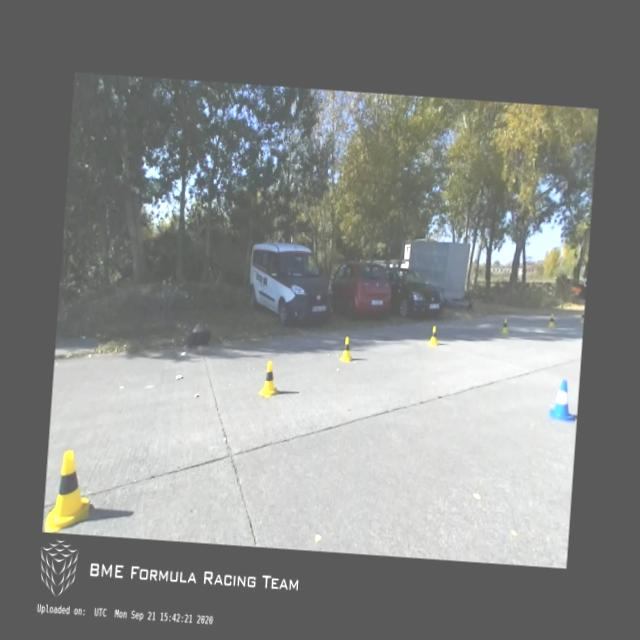blue_cone: (548, 378, 577, 421)
yellow_cone: (44, 449, 92, 535), (258, 360, 280, 398), (340, 336, 352, 362), (427, 325, 439, 346), (501, 318, 508, 334), (548, 313, 555, 327), (580, 312, 584, 324)
